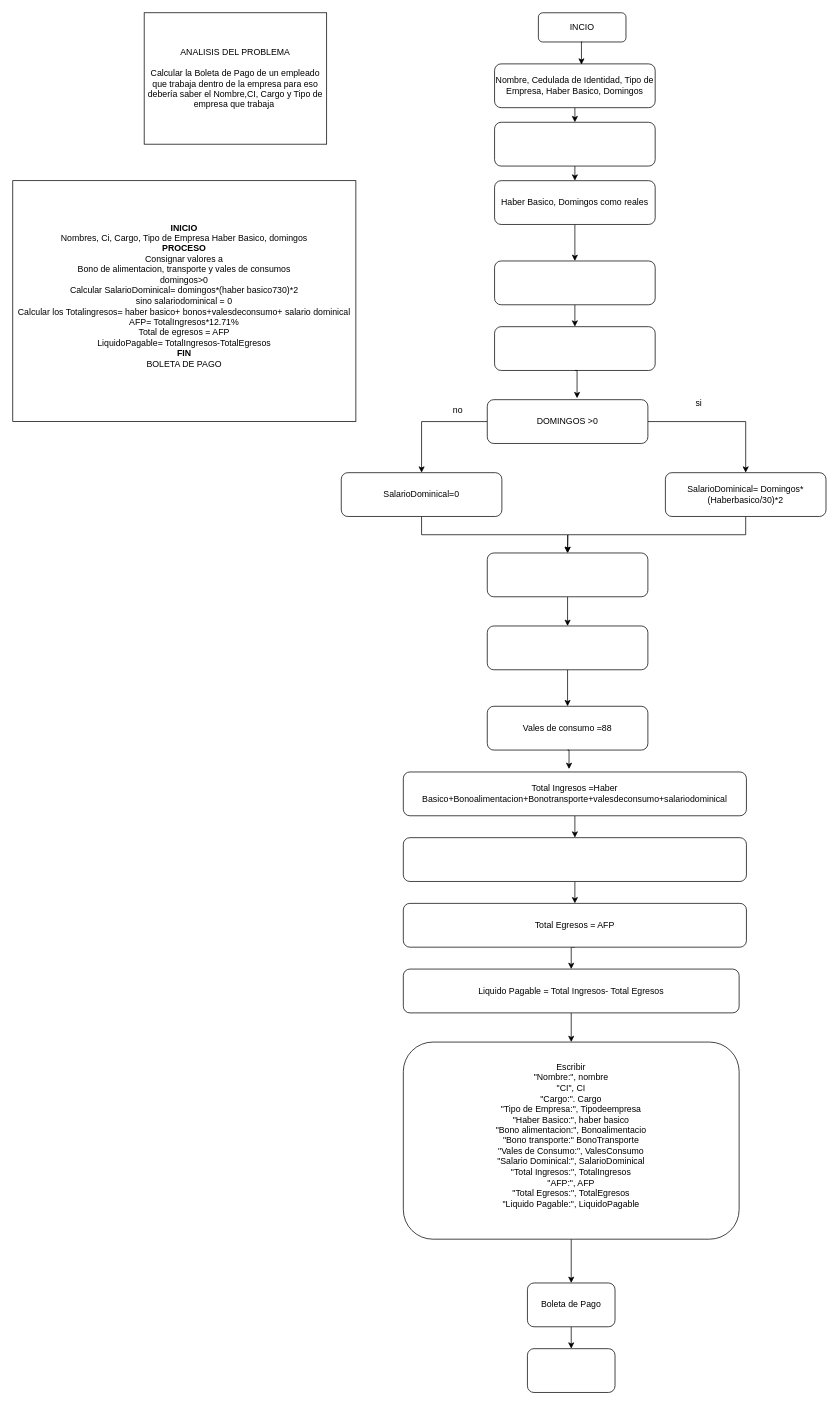
This 839x1405 diagram has some shape labels left out. Each missing label, with the centre of its shape:
"AFP= Total Ingresos*12.71%" goes at point 574,859.
"Bono alimentacion = 60" goes at point 567,574.
"Bono transporte= 157.5" goes at point 567,647.
"Escriba Nombre, Cedulada de Identidad, Tipo de Empresa, Haber Basico, Domingos" goes at point 574,282.
"FIN" goes at point 571,1370.
"Leer Nombre, Cedulada de Identidad, Tipo de Empresa, Haber Basico, Domingos" goes at point 574,348.
"Nombre, Cedulada de Identidad, Tipo de Empresa como caracter" goes at point 574,144.
